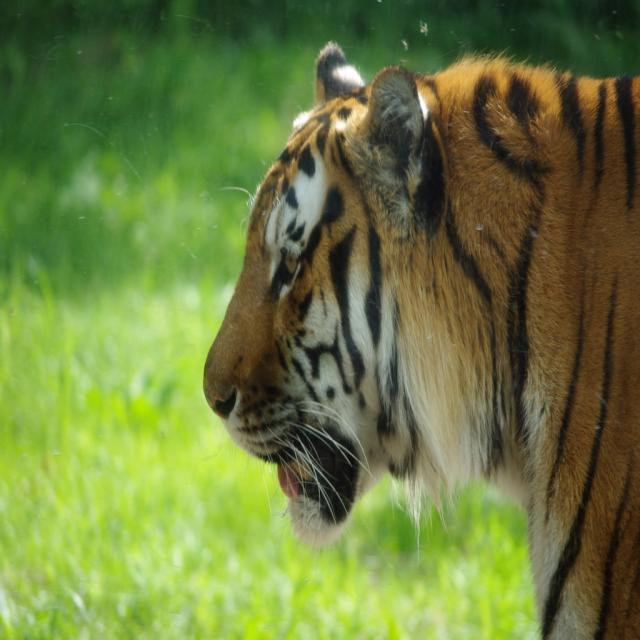Tiger: (201, 37, 640, 639)
